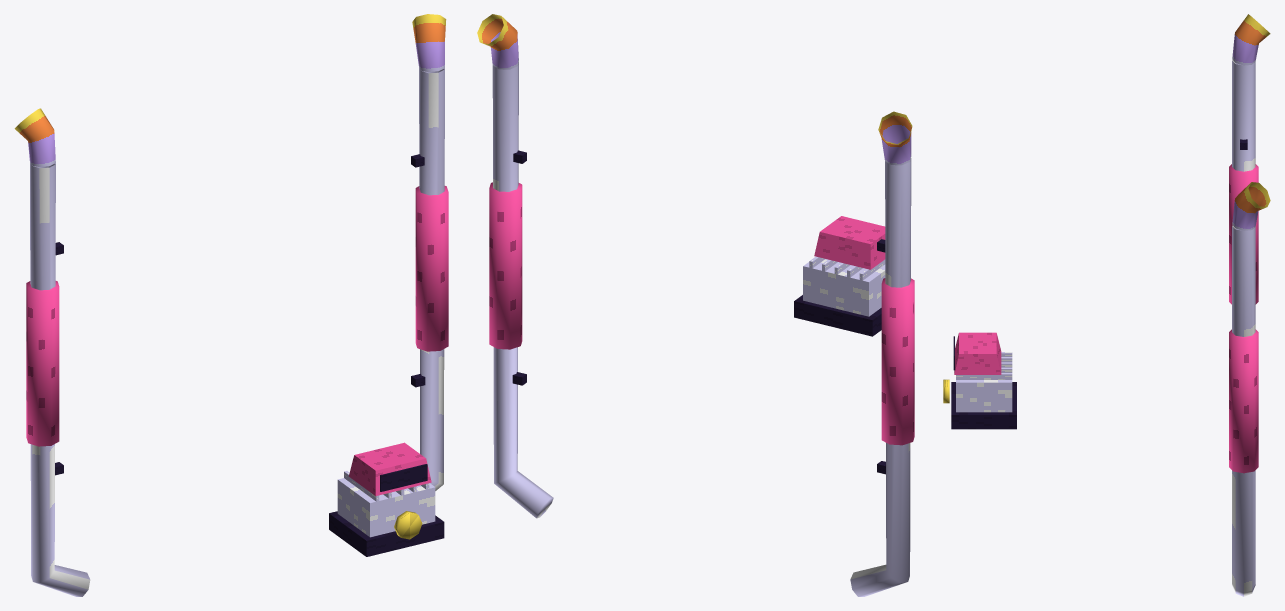
File: Upgrade Exhaust Stacks.fbx
3 renders of one model, left to right at view 1: azimuth 30°, elevation 25°; view 2: azimuth 150°, elevation 25°; view 3: azimuth 270°, elevation 25°, orthographic. The views are drawn at different scales.
Parts seen in each view (by area): view 1: Upgrade Exhaust Stacks stack -1, Upgrade Exhaust Stacks stack 1, Upgrade Exhaust Stacks stack shield 1, Upgrade Exhaust Stacks stack shield -1, Upgrade Exhaust Stacks blower body, Upgrade Exhaust Stacks blower scoop, Upgrade Exhaust Stacks blower base, Upgrade Exhaust Stacks stack tip 1, Upgrade Exhaust Stacks stack tip -1, Upgrade Exhaust Stacks blower mouth, Upgrade Exhaust Stacks blower pulley.001; view 2: Upgrade Exhaust Stacks stack 1, Upgrade Exhaust Stacks stack -1, Upgrade Exhaust Stacks stack shield -1, Upgrade Exhaust Stacks stack shield 1, Upgrade Exhaust Stacks blower body, Upgrade Exhaust Stacks blower scoop, Upgrade Exhaust Stacks blower base, Upgrade Exhaust Stacks stack tip 1, Upgrade Exhaust Stacks stack tip -1; view 3: Upgrade Exhaust Stacks stack 1, Upgrade Exhaust Stacks stack shield 1, Upgrade Exhaust Stacks stack -1, Upgrade Exhaust Stacks blower scoop, Upgrade Exhaust Stacks blower body, Upgrade Exhaust Stacks blower base, Upgrade Exhaust Stacks stack shield -1, Upgrade Exhaust Stacks stack tip 1, Upgrade Exhaust Stacks stack tip -1.
Boxes of the visible parts, x1,y1,x2,y2 form: Upgrade Exhaust Stacks stack -1: (30,163,90,596); Upgrade Exhaust Stacks stack 1: (419,68,444,490); Upgrade Exhaust Stacks stack shield 1: (415,186,448,351); Upgrade Exhaust Stacks stack shield -1: (26,281,59,446); Upgrade Exhaust Stacks blower body: (337,478,435,537); Upgrade Exhaust Stacks blower scoop: (348,442,431,495); Upgrade Exhaust Stacks blower base: (329,511,444,556); Upgrade Exhaust Stacks stack tip 1: (412,14,446,71); Upgrade Exhaust Stacks stack tip -1: (14,108,55,166); Upgrade Exhaust Stacks blower mouth: (380,464,427,491); Upgrade Exhaust Stacks blower pulley.001: (394,511,422,539); Upgrade Exhaust Stacks stack 1: (492,62,553,518); Upgrade Exhaust Stacks stack -1: (850,158,911,596); Upgrade Exhaust Stacks stack shield -1: (881,278,914,445); Upgrade Exhaust Stacks stack shield 1: (489,182,522,349); Upgrade Exhaust Stacks blower body: (803,259,885,316); Upgrade Exhaust Stacks blower scoop: (814,216,885,269); Upgrade Exhaust Stacks blower base: (794,295,881,336); Upgrade Exhaust Stacks stack tip 1: (477,14,518,69); Upgrade Exhaust Stacks stack tip -1: (878,111,912,165); Upgrade Exhaust Stacks stack 1: (1232,225,1255,596); Upgrade Exhaust Stacks stack shield 1: (1229,329,1258,473); Upgrade Exhaust Stacks stack -1: (1232,60,1255,171); Upgrade Exhaust Stacks blower scoop: (954,332,1001,374); Upgrade Exhaust Stacks blower body: (956,380,1012,412); Upgrade Exhaust Stacks blower base: (951,382,1016,429); Upgrade Exhaust Stacks stack shield -1: (1229,164,1258,304); Upgrade Exhaust Stacks stack tip 1: (1232,182,1270,230); Upgrade Exhaust Stacks stack tip -1: (1232,14,1270,65).
Bounding box in the file's own units: 2.75 × 3.03 × 2.09.
6 materials, 6 textured.
